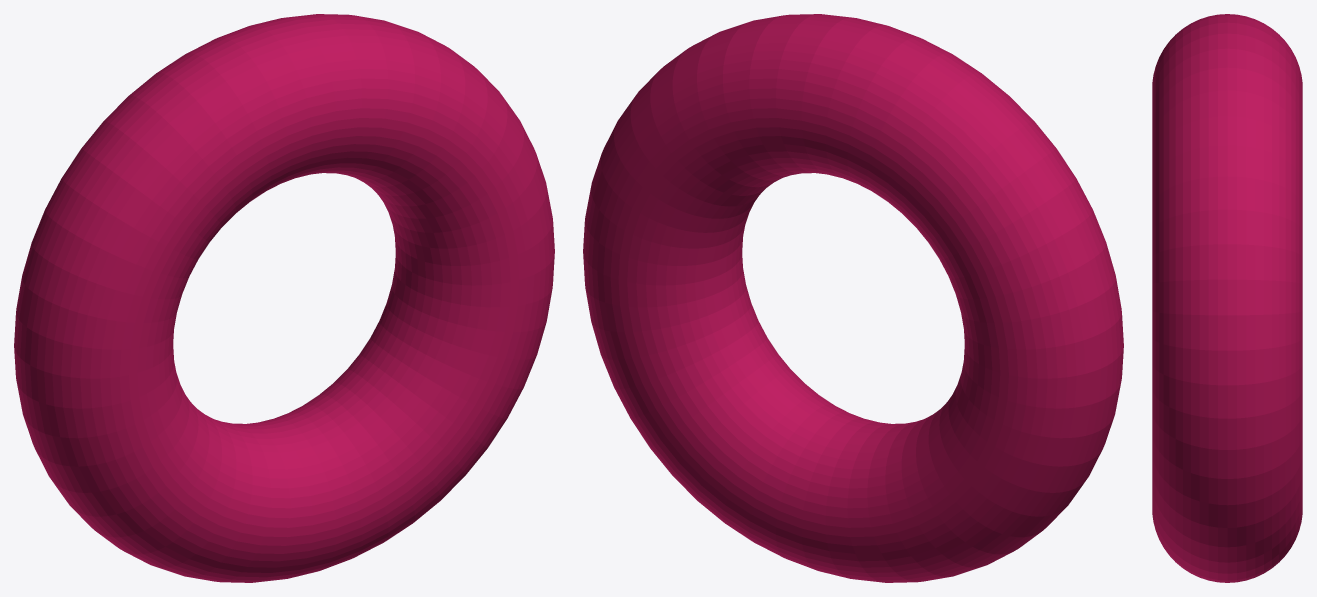
3 renders of one model, left to right at view 1: azimuth 30°, elevation 25°; view 2: azimuth 150°, elevation 25°; view 3: azimuth 270°, elevation 25°, orthographic. The views are drawn at different scales.
Visible parts, largest first — view 1: world; view 2: world; view 3: world.
Part boxes in pixels (x1,y1,x2,y2): world: [14, 14, 554, 582]; world: [583, 14, 1123, 582]; world: [1152, 14, 1302, 582].
Size of the model in its own units: 32.67 by 32.6 by 8.65.
